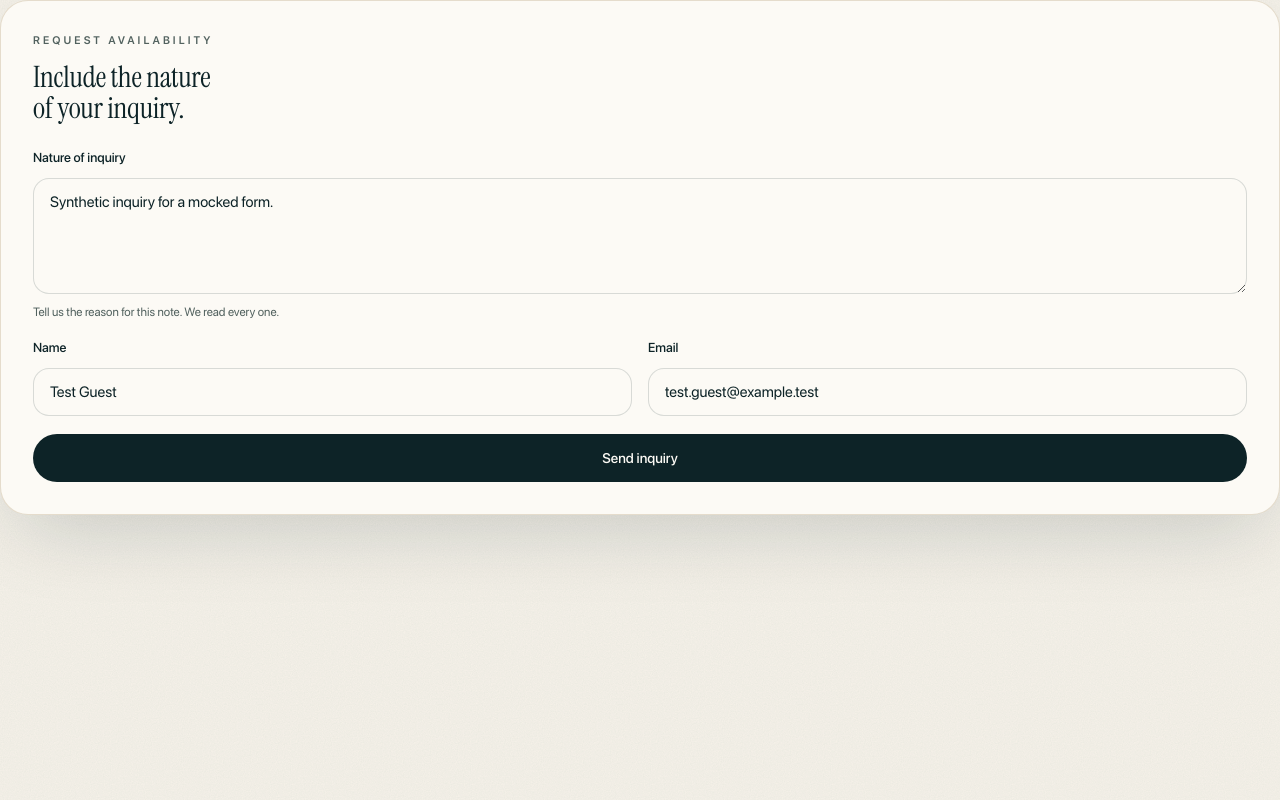
Test: InquiryForm generate_lead › does not POST or fire generate_lead when the honeypot is filled
Earlier steps of the test are not shown.
Click the button with test id "inquiry-submit" at (640, 458), box [33, 434, 1247, 482]
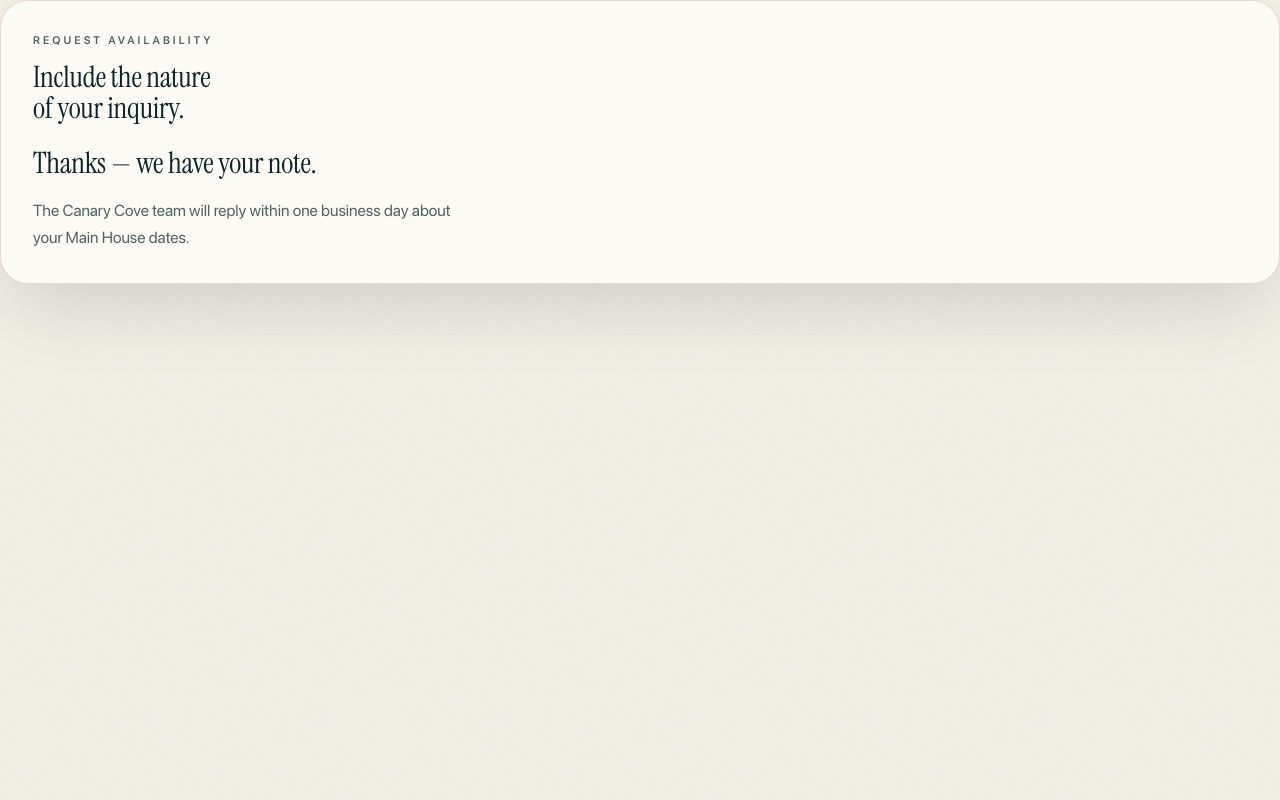
Expected: the message with test id "inquiry-success" is shown, [33, 144, 450, 247]
